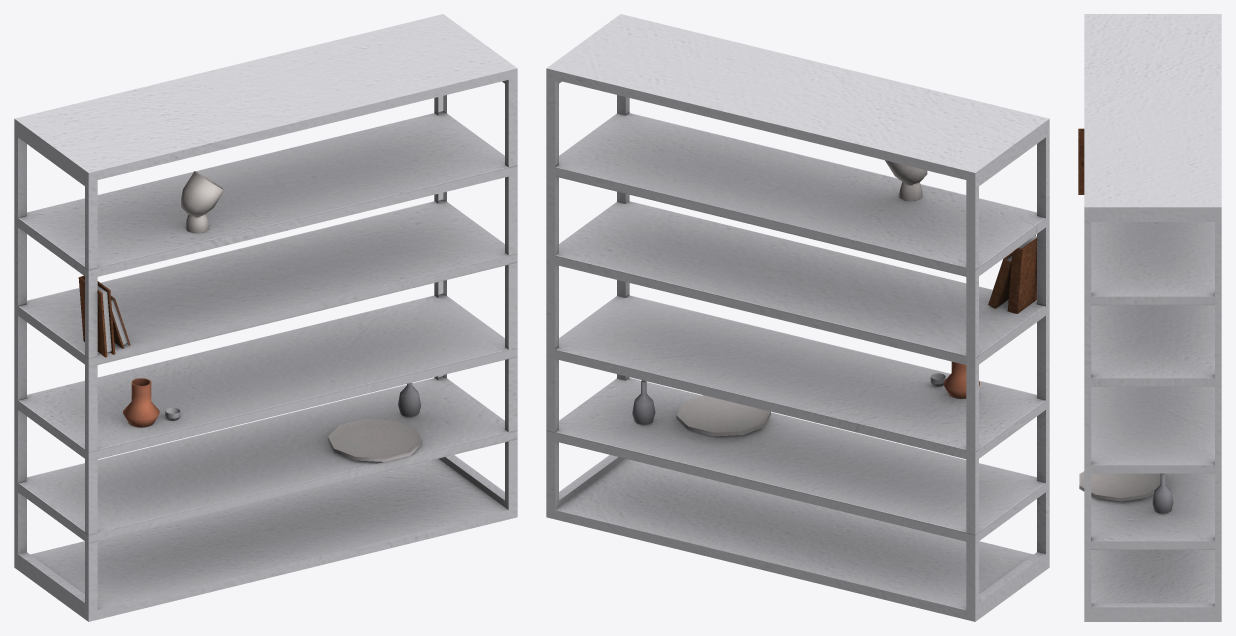
Rendered from Estantes.fbx.
3 views of the same model, side by side, from view 1: azimuth 30°, elevation 25°; view 2: azimuth 150°, elevation 25°; view 3: azimuth 270°, elevation 25° (orthographic). The views are drawn at different scales.
Parts seen in each view (by area): view 1: Box002; view 2: Box002; view 3: Box002.
Part boxes in pixels (x1,y1,x2,y2): Box002: (14,14,517,621); Box002: (546,14,1049,621); Box002: (1078,14,1221,621).
Size of the model in its own units: 78.74 by 78.74 by 24.69.
1 material, 1 textured.
